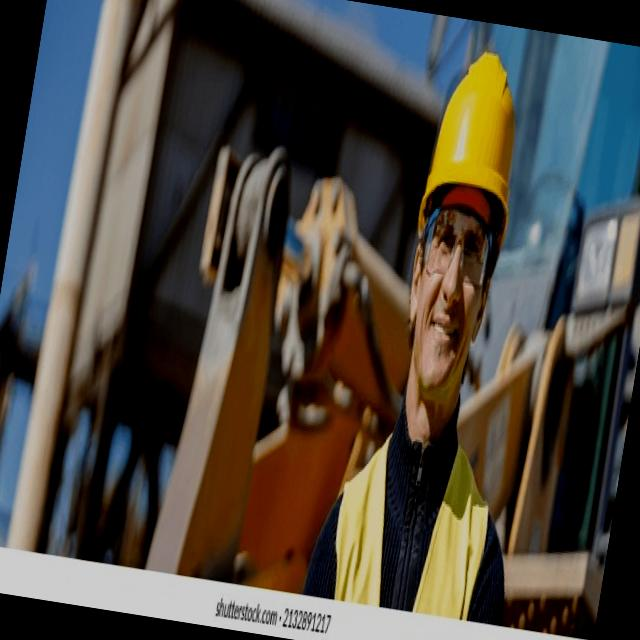goggles: (409, 194, 502, 290)
helmet: (412, 39, 535, 260)
vest: (323, 425, 501, 624)
